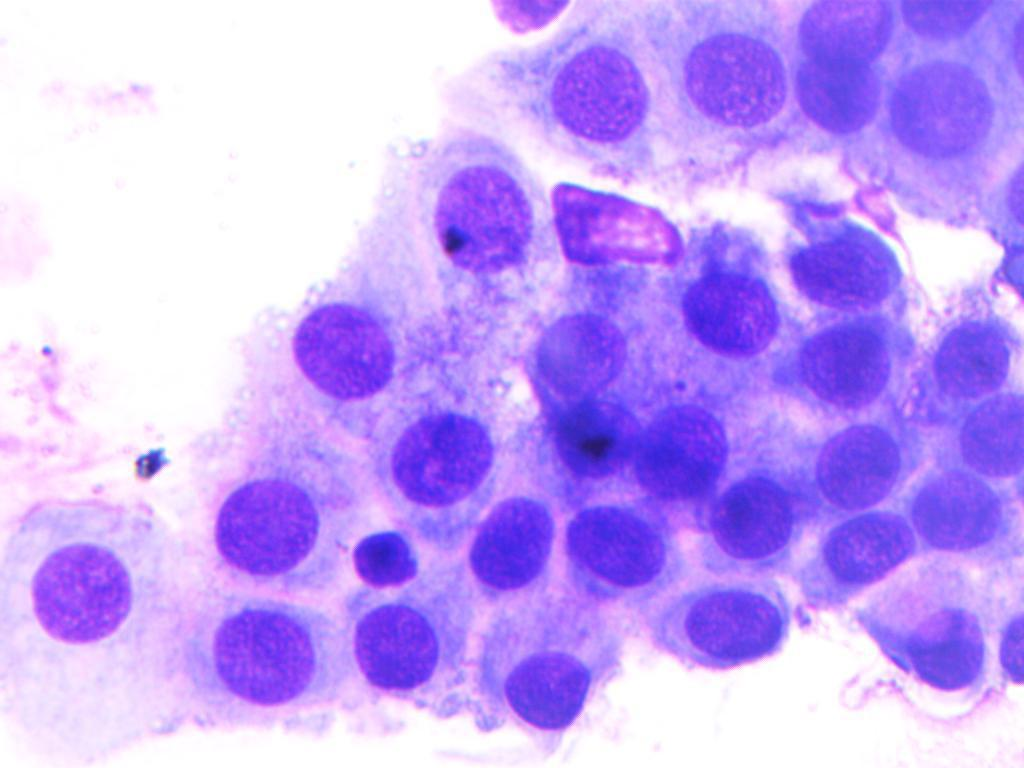artifact: (541, 168, 692, 277)
epithelial: (191, 399, 354, 597), (467, 589, 611, 743), (419, 137, 546, 290), (527, 23, 678, 151), (840, 579, 994, 697), (770, 196, 913, 320), (183, 595, 340, 704), (27, 532, 160, 656), (636, 577, 794, 679), (879, 47, 1008, 169), (385, 394, 510, 509), (283, 294, 405, 406), (344, 597, 461, 710), (676, 27, 794, 139), (533, 395, 650, 498), (447, 496, 558, 599), (791, 317, 904, 416), (905, 453, 1011, 557), (788, 417, 911, 505), (679, 254, 779, 356), (806, 507, 923, 592), (563, 500, 667, 591), (526, 305, 631, 395), (636, 397, 726, 501), (701, 477, 806, 561), (936, 296, 1018, 401), (787, 62, 887, 135), (955, 390, 1024, 483), (793, 2, 901, 60), (348, 518, 419, 594)
